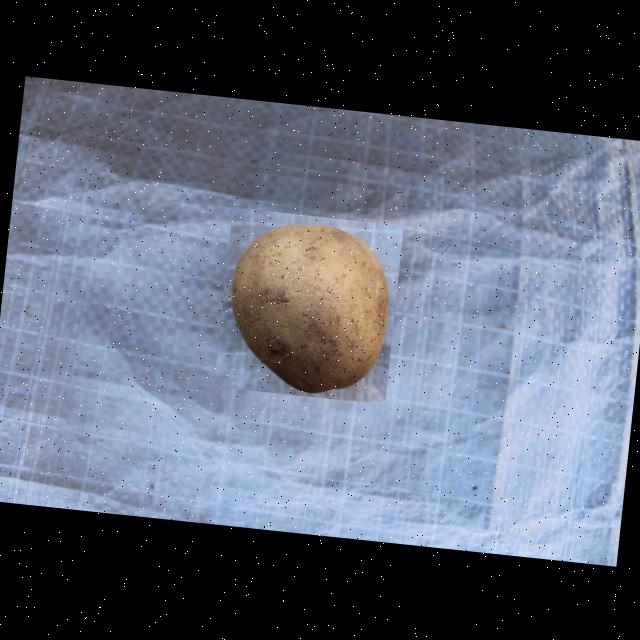Diseased-fungal potato: (212, 206, 402, 403)
